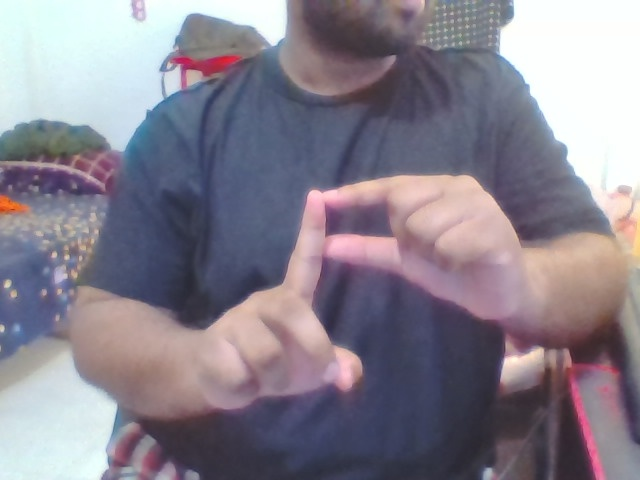P: (179, 167, 529, 428)
